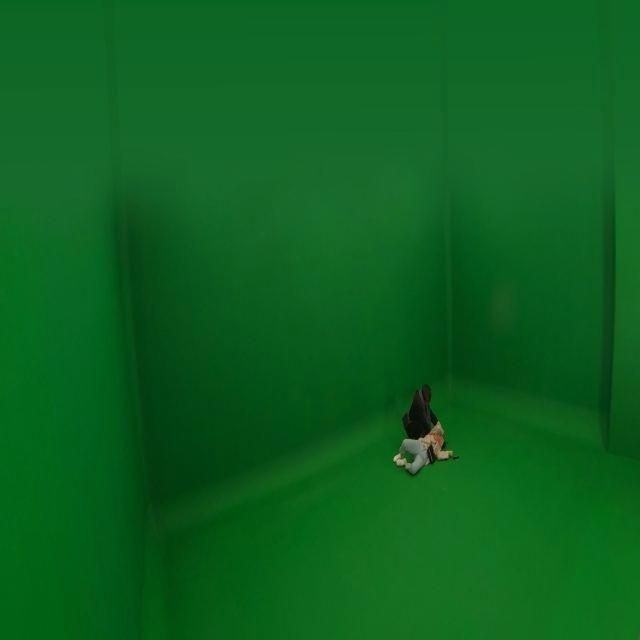fight: (390, 383, 456, 477)
